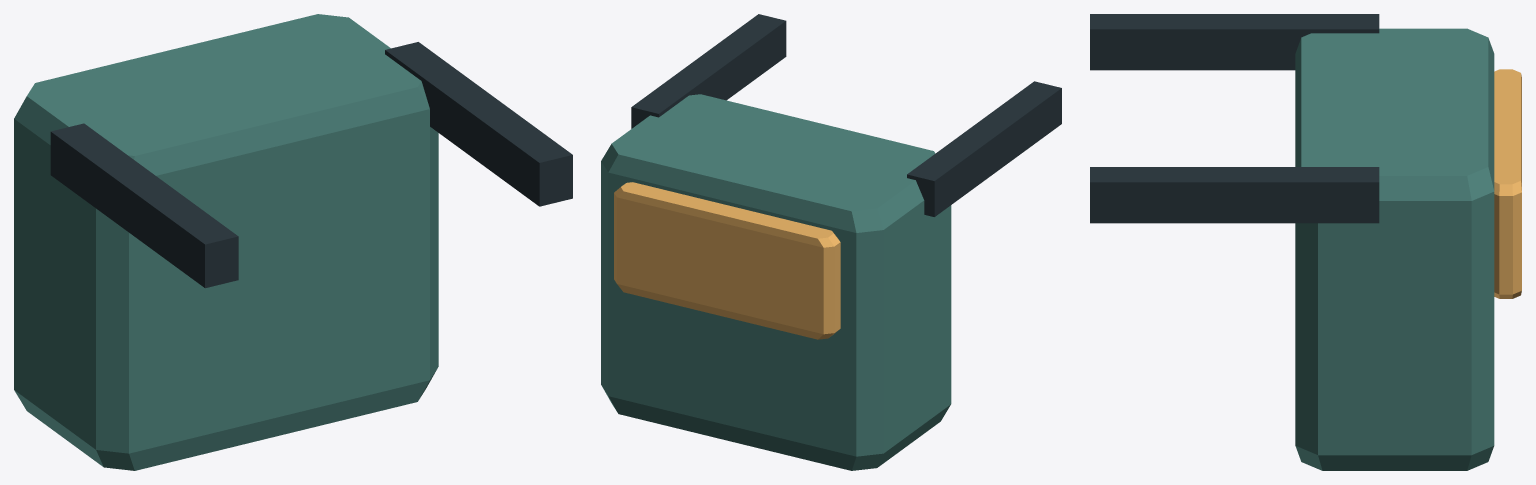
Rendered from SM_NPC_ACCESSORY_004_Backpack.glb.
3 renders of one model, left to right at view 1: azimuth 30°, elevation 25°; view 2: azimuth 150°, elevation 25°; view 3: azimuth 270°, elevation 25°, orthographic. The views are drawn at different scales.
Parts seen in each view (by area): view 1: SM_NPC_ACCESSORY_004_Backpack; view 2: SM_NPC_ACCESSORY_004_Backpack; view 3: SM_NPC_ACCESSORY_004_Backpack.
Boxes of the visible parts, x1,y1,x2,y2 form: SM_NPC_ACCESSORY_004_Backpack: (14,14,572,470); SM_NPC_ACCESSORY_004_Backpack: (601,14,1061,470); SM_NPC_ACCESSORY_004_Backpack: (1090,14,1521,470).
Bounding box in the file's own units: 0.44 × 0.365 × 0.4775.
